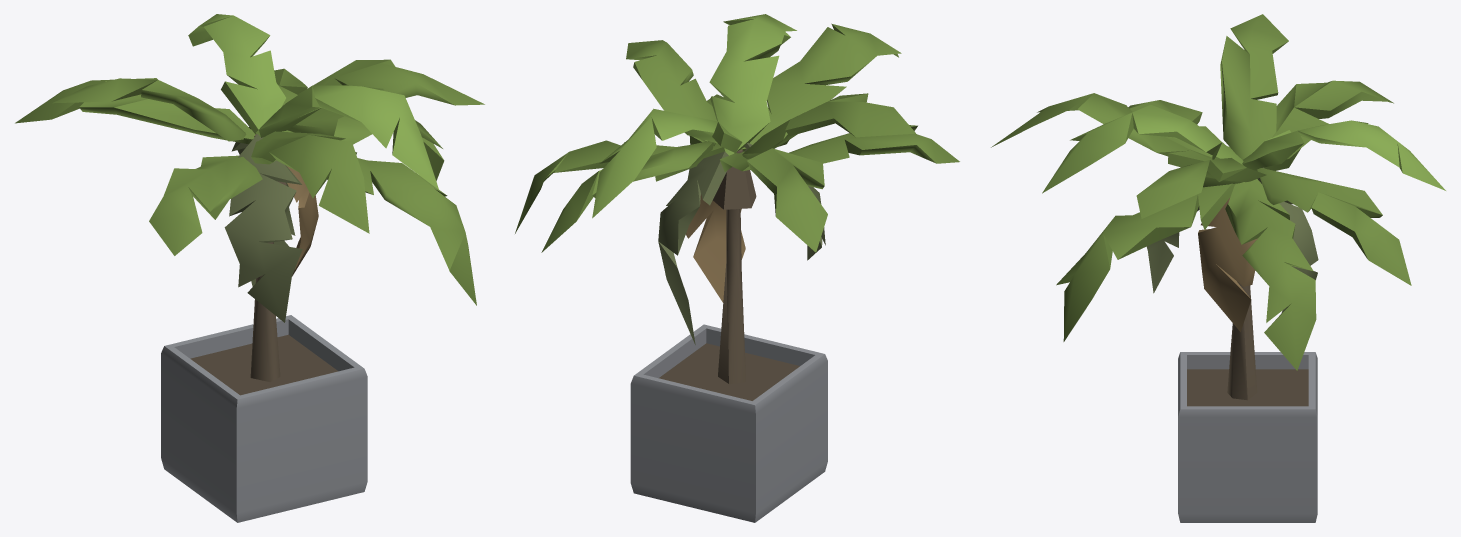
File: SM_Prop_Plant_13.obj
3 views of the same model, side by side, from view 1: azimuth 30°, elevation 25°; view 2: azimuth 150°, elevation 25°; view 3: azimuth 270°, elevation 25° (orthographic). The views are drawn at different scales.
Parts seen in each view (by area): view 1: SM_Prop_Plant_13_Mat_SwatchOverlay_PolygonOffice_01_Inst; view 2: SM_Prop_Plant_13_Mat_SwatchOverlay_PolygonOffice_01_Inst; view 3: SM_Prop_Plant_13_Mat_SwatchOverlay_PolygonOffice_01_Inst.
Boxes of the visible parts, x1,y1,x2,y2 form: SM_Prop_Plant_13_Mat_SwatchOverlay_PolygonOffice_01_Inst: [15, 14, 484, 522]; SM_Prop_Plant_13_Mat_SwatchOverlay_PolygonOffice_01_Inst: [515, 14, 959, 522]; SM_Prop_Plant_13_Mat_SwatchOverlay_PolygonOffice_01_Inst: [991, 14, 1445, 522].
Bounding box in the file's own units: 1.34 × 1.38 × 1.43.
1 material, 1 textured.
